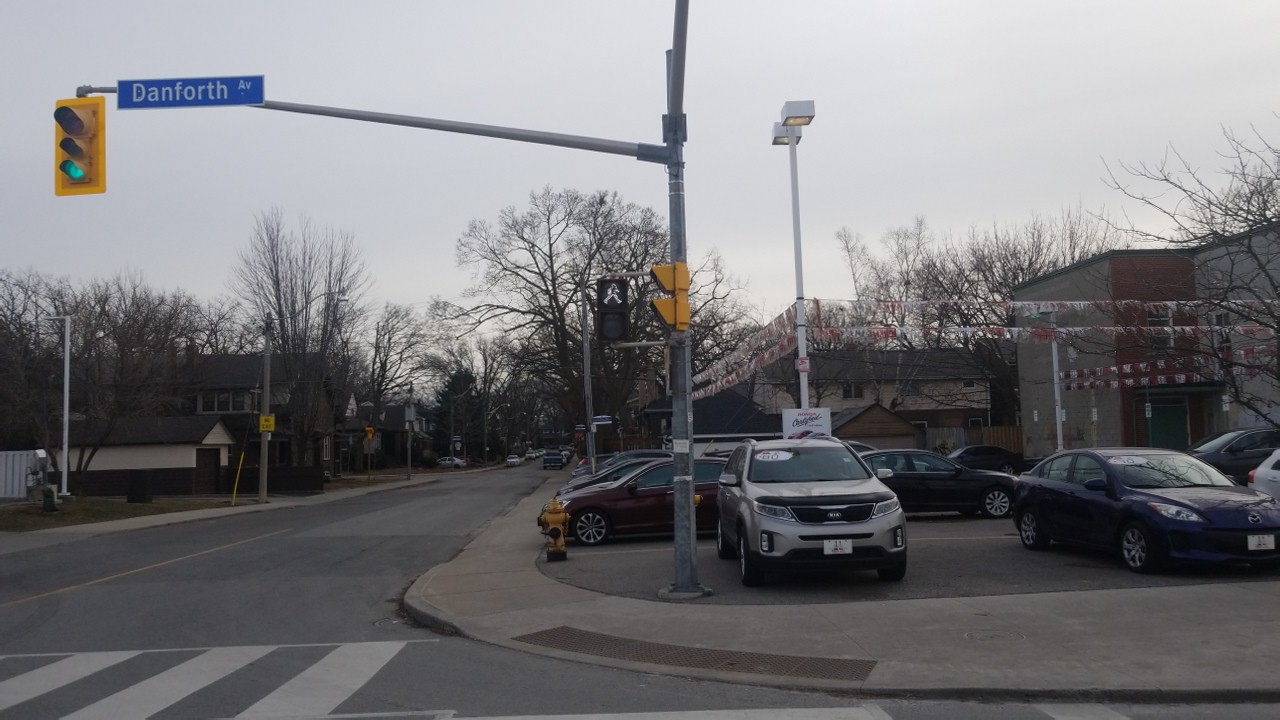light: (588, 271, 637, 344)
